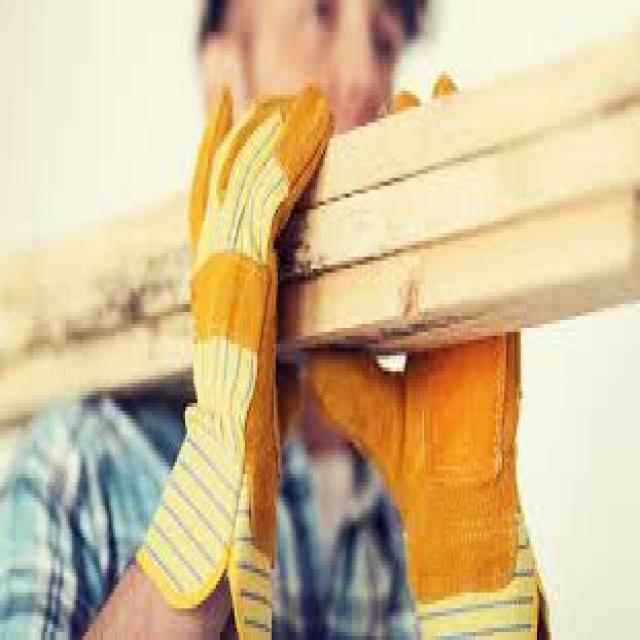gloved: (132, 75, 332, 632), (344, 350, 534, 640)
